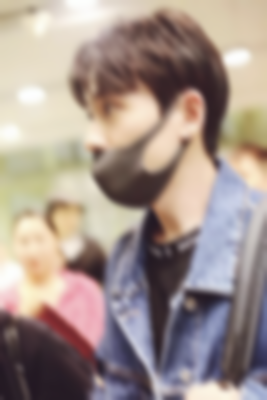mask_weared_incorrect: (83, 97, 182, 207)
